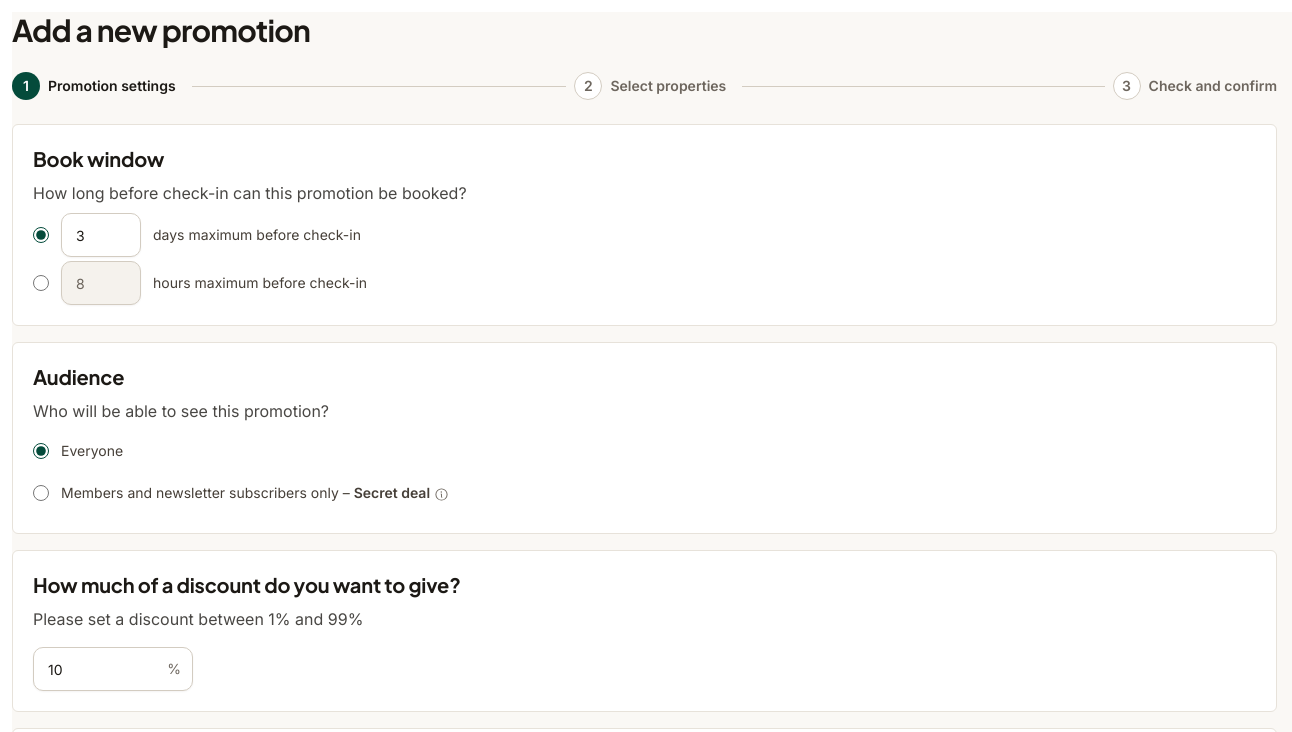
Test: promotion settings variants › switches Last Minute between days and hours
Expected: the number field named "Days maximum before check-in" holds "3", [61,213,141,257]
Expected: the number field named "Hours maximum before check-in" is disabled, [61,261,141,305]
Click the radio button named "Hours before check-in" at (41, 283), box [33,275,49,291]
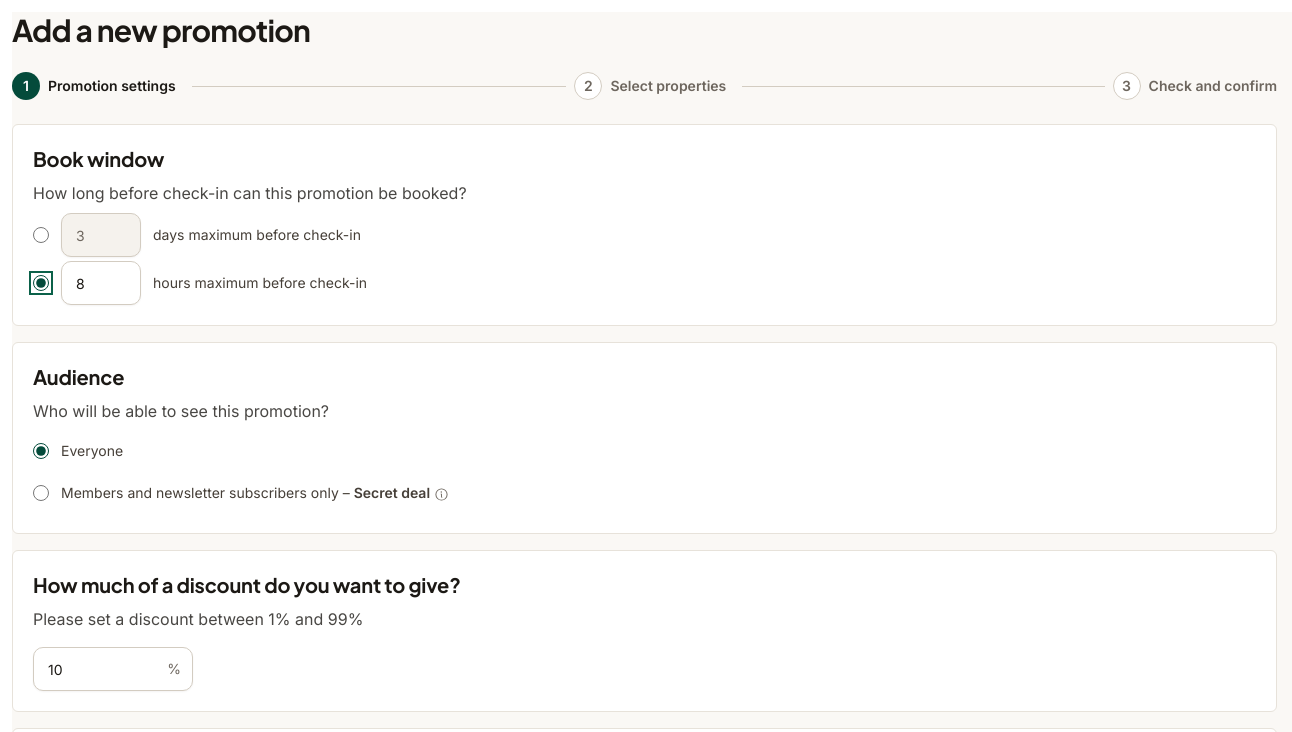
Result: the number field named "Hours maximum before check-in" is enabled at [61,261,141,305]
Result: the number field named "Days maximum before check-in" is disabled at [61,213,141,257]
